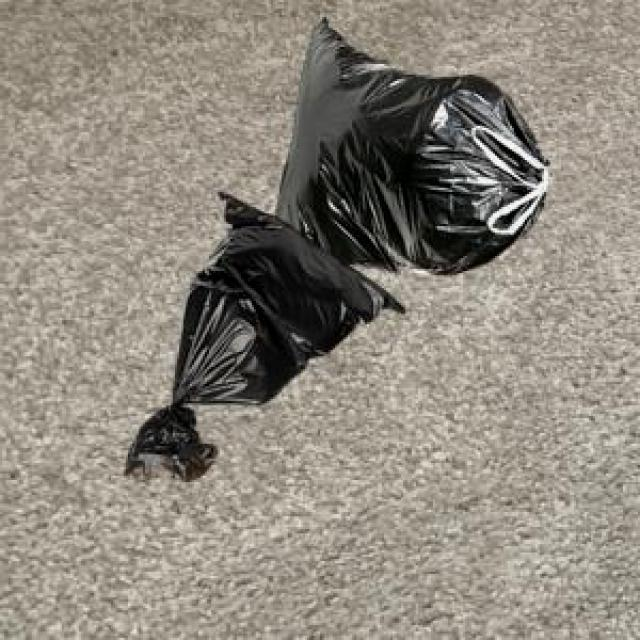Trashbag: (340, 62, 559, 286), (173, 182, 358, 416)
